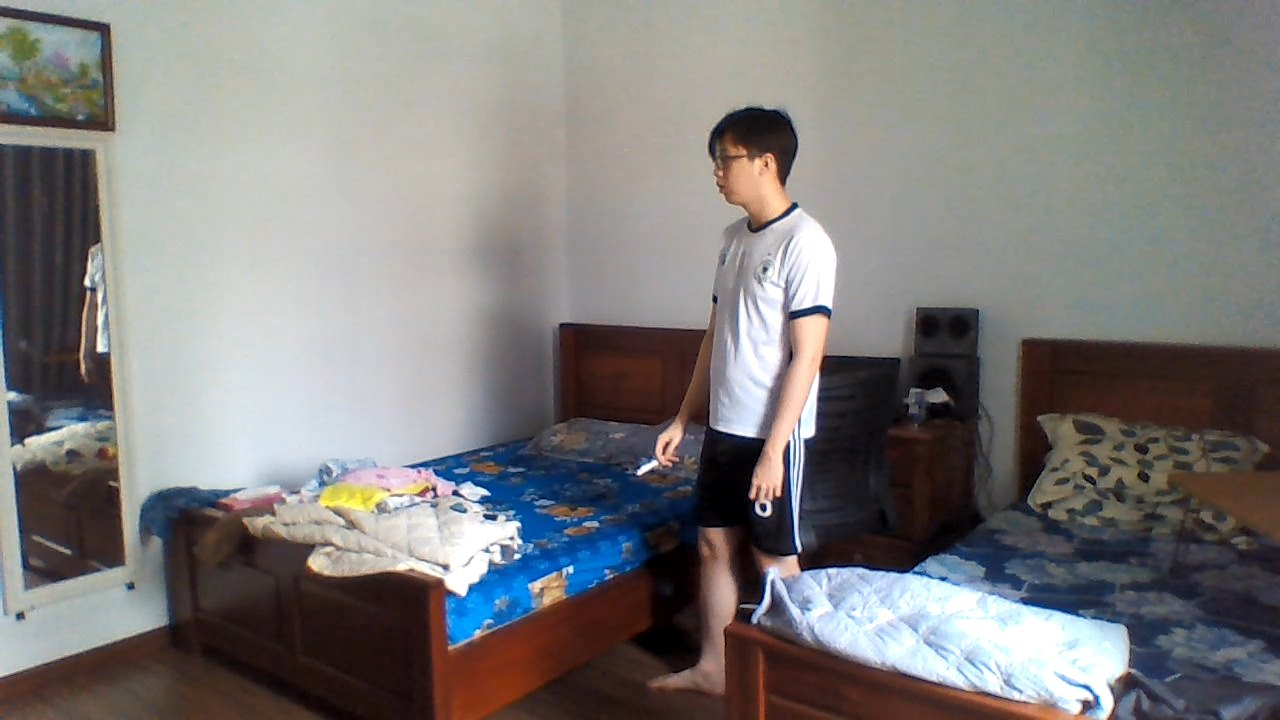cigarette: (639, 455, 664, 478)
person: (659, 98, 847, 718)
